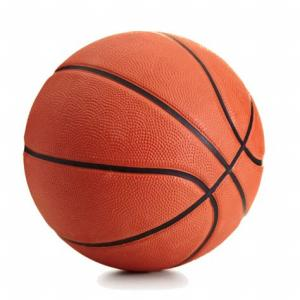Basket: (23, 31, 266, 273)
